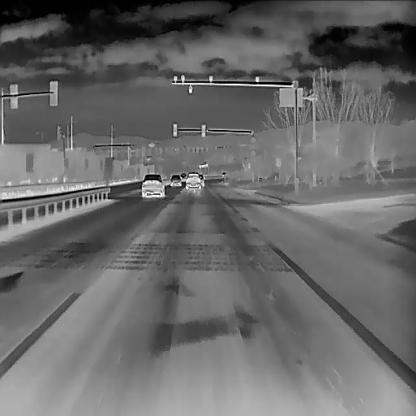car: (141, 173, 165, 196), (186, 172, 202, 190), (169, 173, 181, 186), (198, 173, 204, 186), (180, 172, 188, 181)
